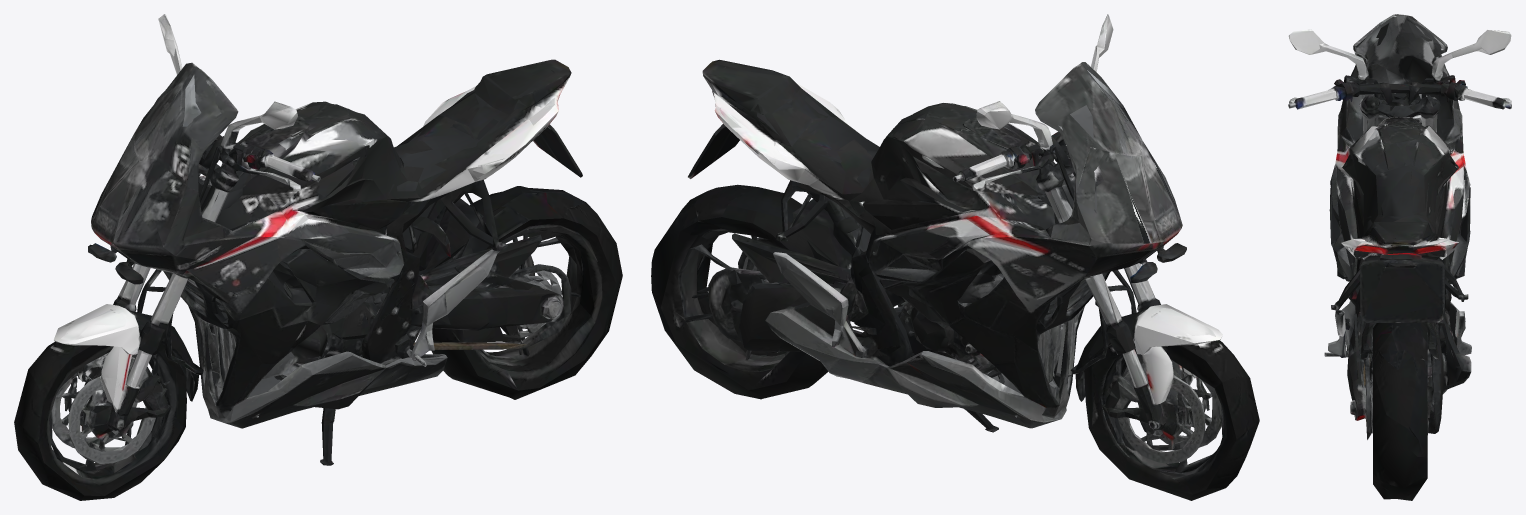
Rendered from mx_veh_police_bike.glb.
The picture shows the model from 3 angles, left to right: view 1: azimuth 30°, elevation 25°; view 2: azimuth 150°, elevation 25°; view 3: azimuth 270°, elevation 25°; orthographic projection. The views are drawn at different scales.
Size of the model in its own units: 1.89 by 1.24 by 0.7266.
1 material, 1 textured.
